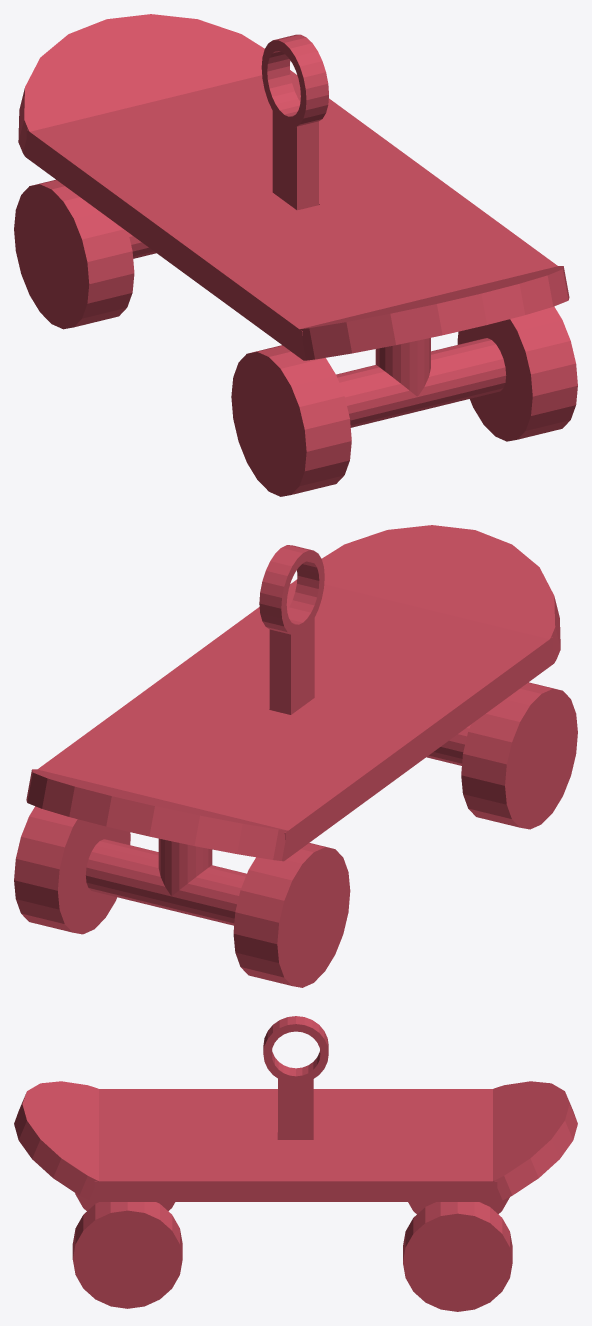
Rendered from Board.glb.
The picture shows the model from 3 angles, top to bottom: view 1: azimuth 30°, elevation 25°; view 2: azimuth 150°, elevation 25°; view 3: azimuth 270°, elevation 25°; orthographic projection. The views are drawn at different scales.
Visible parts, largest first — view 1: Mesh_Mesh_head_geo.001_lambert2SG.001; view 2: Mesh_Mesh_head_geo.001_lambert2SG.001; view 3: Mesh_Mesh_head_geo.001_lambert2SG.001.
Boxes of the visible parts, <box> form: Mesh_Mesh_head_geo.001_lambert2SG.001: <box>14,14,577,496</box>; Mesh_Mesh_head_geo.001_lambert2SG.001: <box>14,525,577,987</box>; Mesh_Mesh_head_geo.001_lambert2SG.001: <box>14,1016,577,1311</box>.
Bounding box in the file's own units: 32.2 × 36.5 × 76.9.
